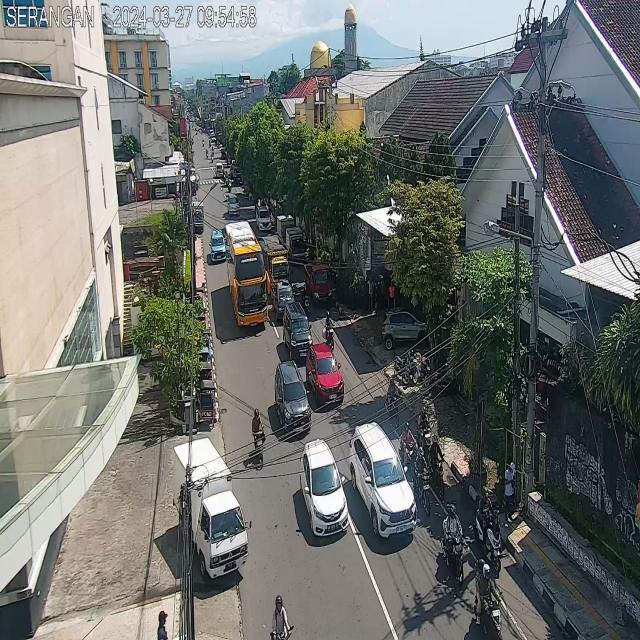bus: (225, 221, 268, 326)
car: (348, 416, 419, 546), (299, 438, 349, 544), (274, 360, 311, 433), (305, 343, 344, 409), (283, 301, 314, 364), (210, 228, 227, 262), (255, 207, 272, 231), (227, 194, 240, 217), (216, 161, 223, 177)
motorcycle: (472, 556, 506, 640), (474, 486, 501, 573), (441, 505, 466, 586), (411, 444, 432, 516), (428, 436, 446, 498), (270, 591, 292, 640), (398, 421, 416, 474), (252, 408, 266, 466), (417, 408, 432, 460), (386, 378, 400, 426), (324, 310, 336, 350), (301, 283, 310, 314), (227, 176, 233, 191), (225, 171, 229, 186), (222, 169, 226, 184), (211, 146, 215, 156), (211, 152, 214, 164), (208, 139, 212, 148), (202, 138, 205, 148), (206, 148, 208, 160)
truck: (173, 439, 248, 578), (260, 235, 290, 294), (304, 262, 333, 310), (268, 279, 296, 320), (286, 227, 306, 265), (278, 212, 294, 248)
